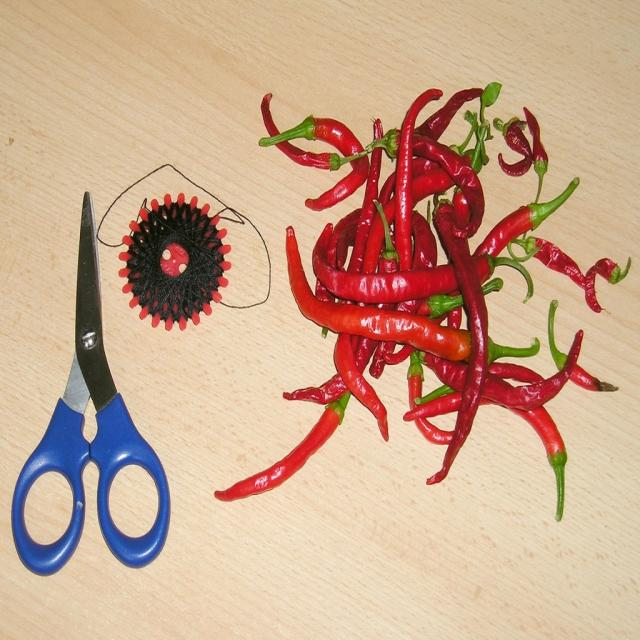scissors: (11, 190, 170, 576)
